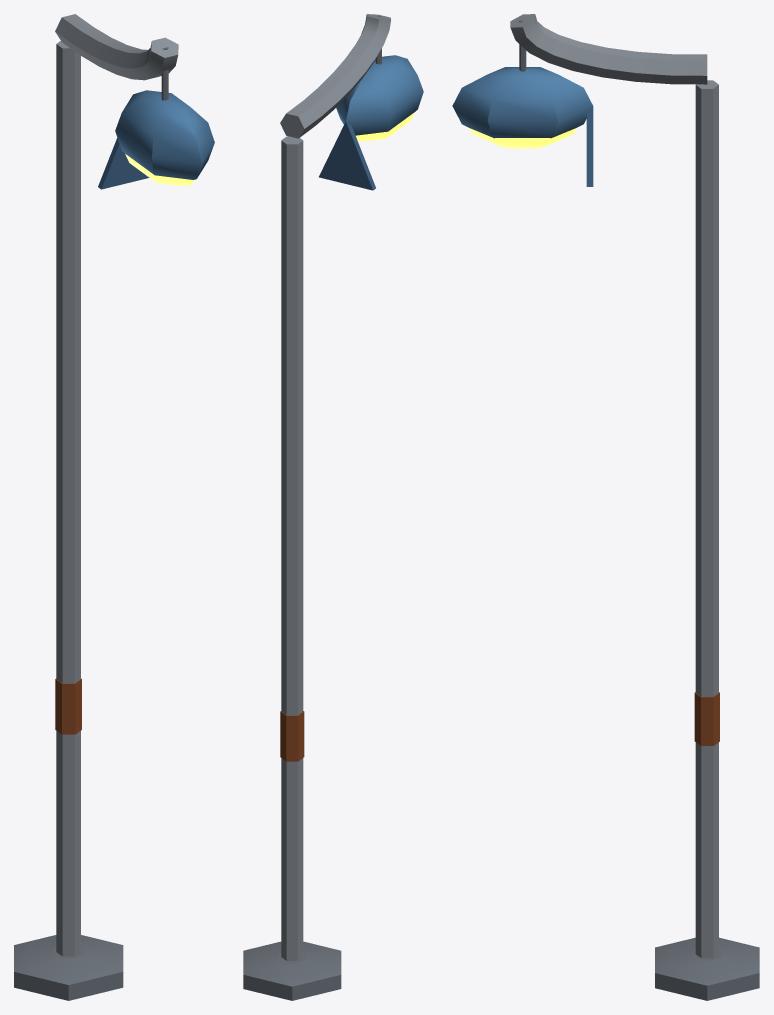
File: zc_street_lamp.mobile-low.glb
3 views of the same model, side by side, from view 1: azimuth 30°, elevation 25°; view 2: azimuth 150°, elevation 25°; view 3: azimuth 270°, elevation 25° (orthographic). The views are drawn at different scales.
Parts seen in each view (by area): view 1: zc_street_lamp, lantern; view 2: zc_street_lamp, lantern; view 3: zc_street_lamp, lantern.
Boxes of the visible parts, x1,y1,x2,y2 form: zc_street_lamp: (14, 14, 178, 1000); lantern: (98, 47, 214, 189); zc_street_lamp: (243, 14, 390, 1000); lantern: (319, 16, 423, 190); zc_street_lamp: (510, 14, 759, 1000); lantern: (452, 19, 593, 186).
Size of the model in its own units: 0.36 by 3.15 by 0.9159.
1 material, 1 textured.
